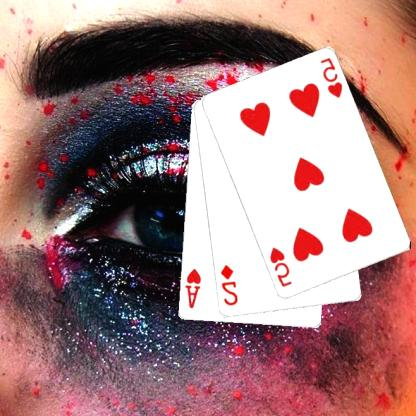2D: (220, 262, 240, 308)
5H: (319, 55, 346, 100), (268, 245, 295, 289)
AH: (184, 266, 204, 310)
